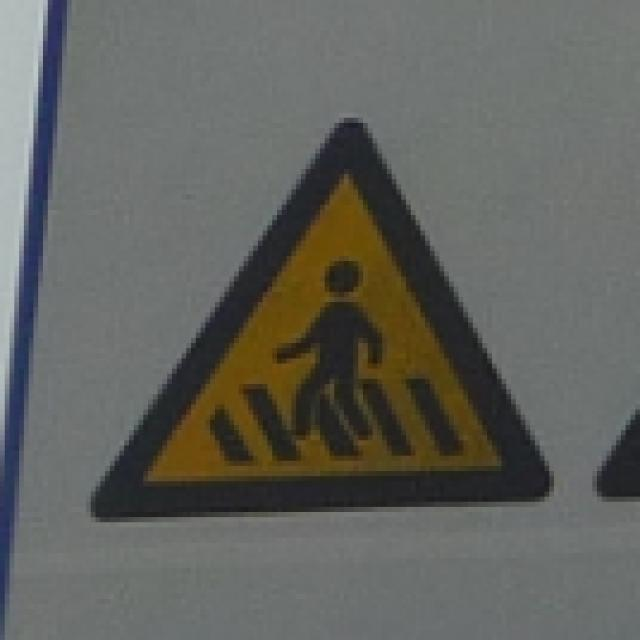Crossing: (75, 103, 569, 529)
